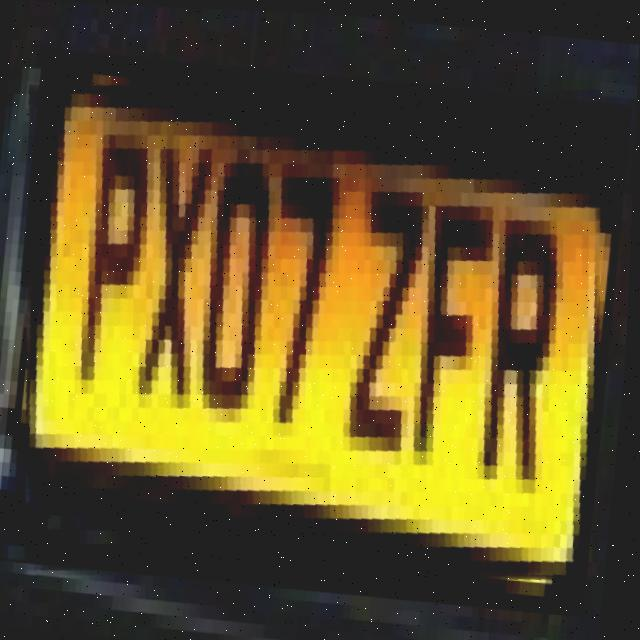LicensePlate: (0, 47, 634, 613)
